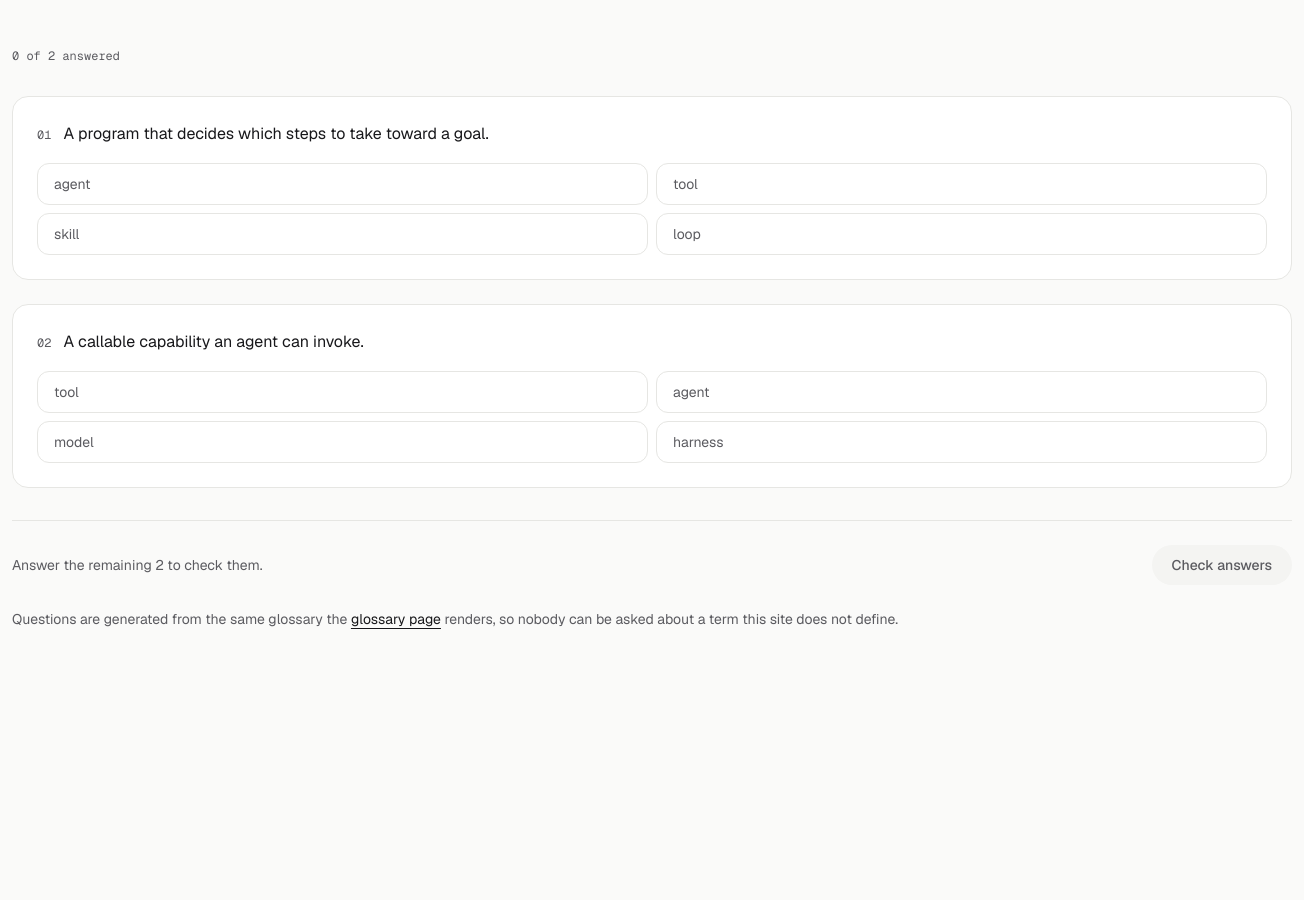
Test: GlossaryQuiz › reveals the answers and the score after checking
This screenshot has width=1304, height=900.
Click the 1st button "tool" at [685, 184], box [656,163,1267,205]
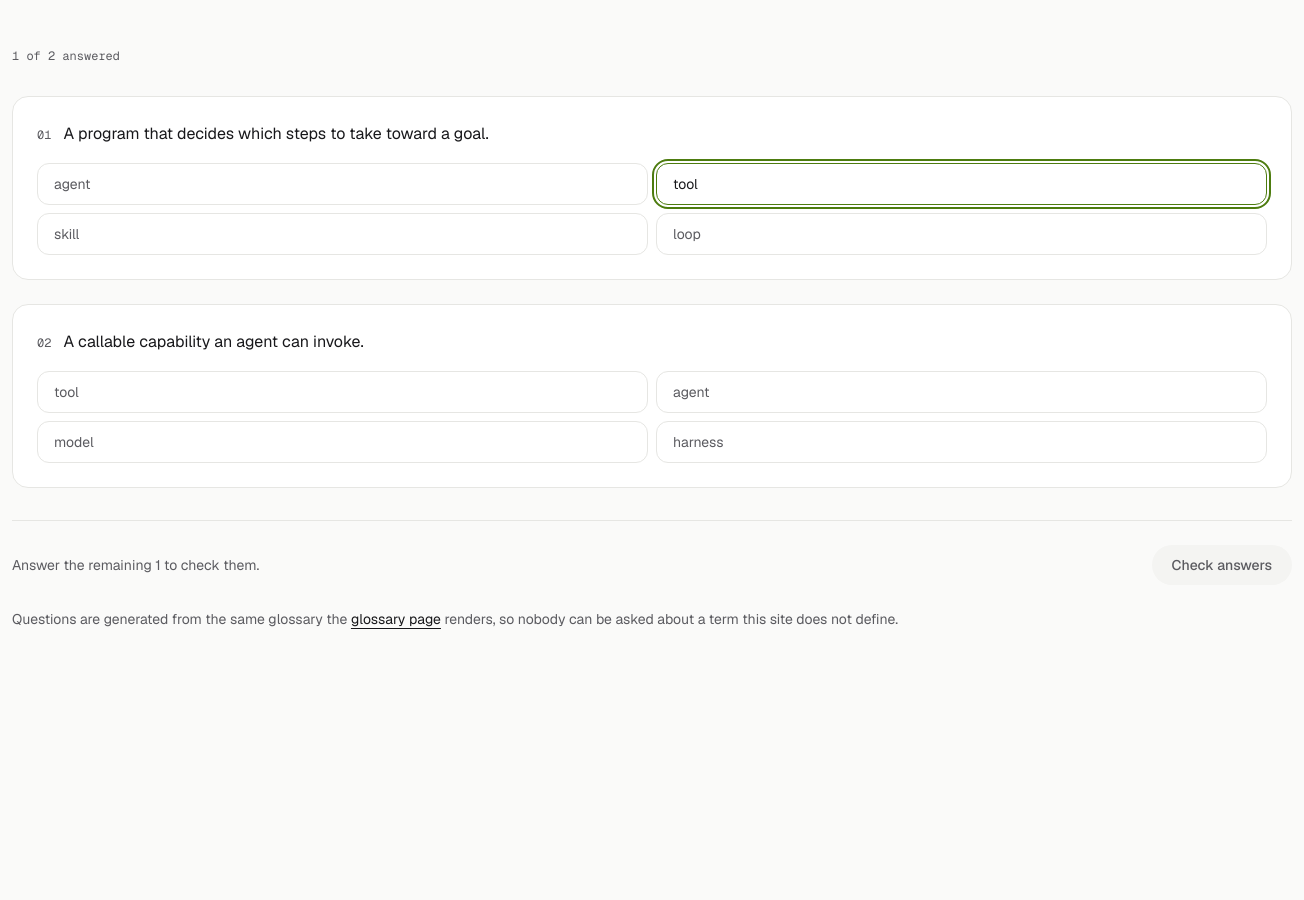
Click the button "tool" below "02" at [66, 392], box [37,371,648,413]
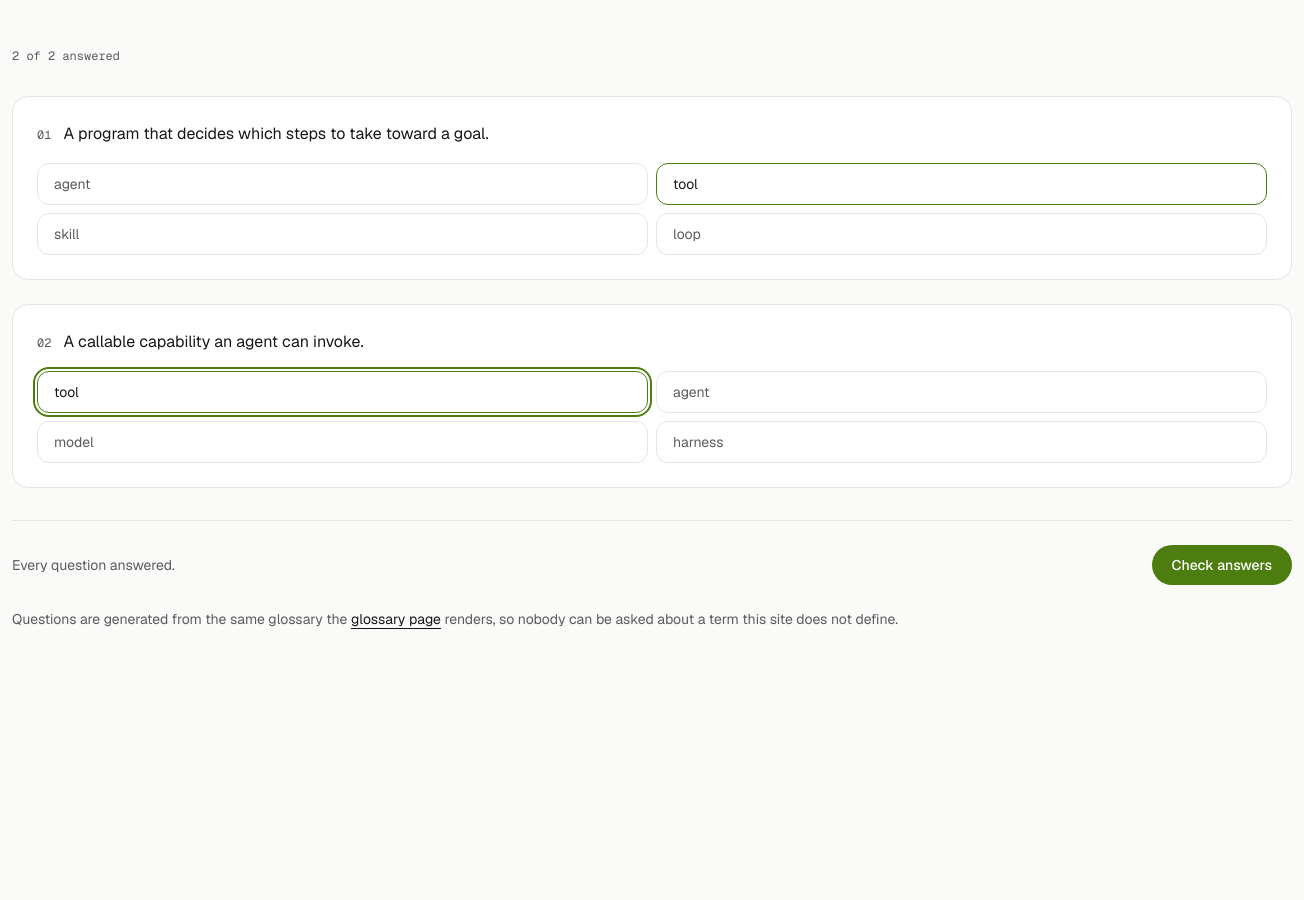
Click the button "Check answers" at [1222, 565], box [1152,545,1292,585]
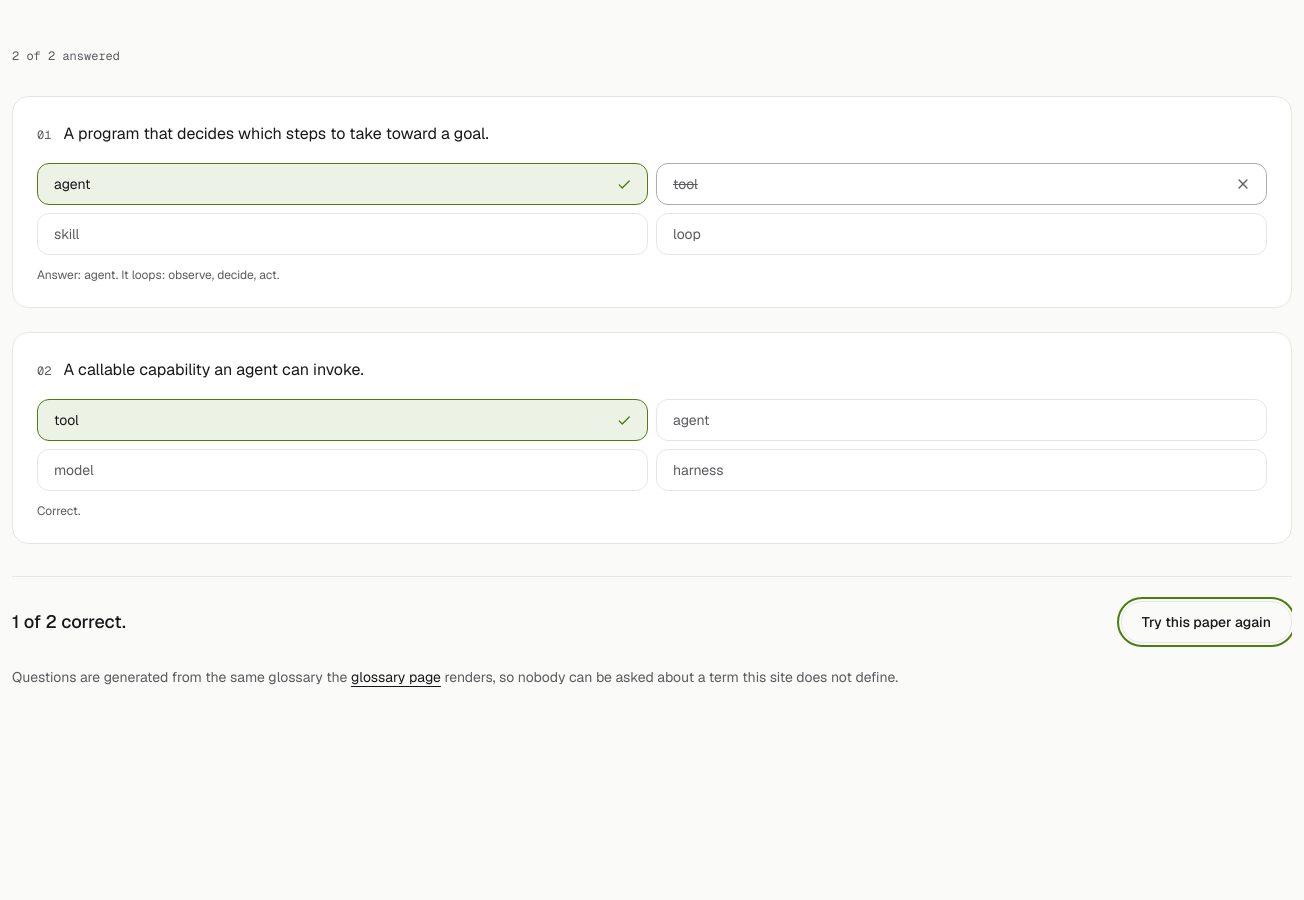
Expected: the text "Answer: agent. It loops: observe, decide, act." is shown, [37,267,279,283]
Expected: the text "1 of 2 correct." is shown, [12,608,126,636]
Expected: the text "Correct." is shown, [37,503,80,519]
